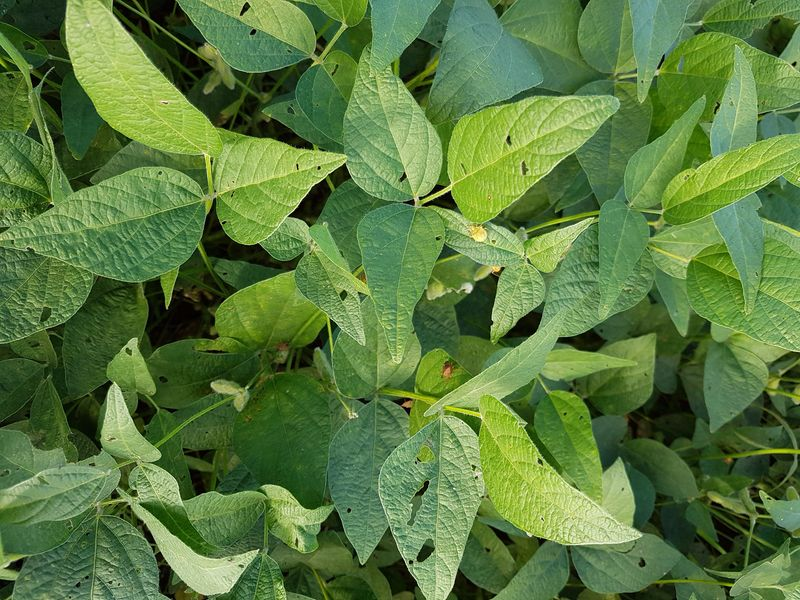Euschistus_heros_adulto: (437, 360, 460, 382)
Euschistus_heros_ninfa: (461, 219, 493, 248)
